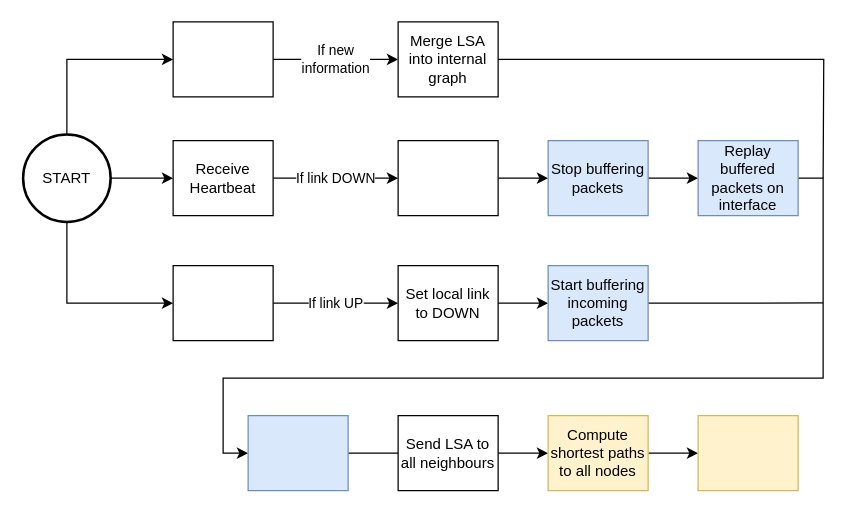
Some shapes in this 855 by 513 pixel diagram are drawn without their labels. The shapes that lost their labels are listed below. From the top down, each one's centre as x and y in pixels, then its label:
At point (222, 59): "Receive LSA".
At point (447, 177): "Set local link to UP".
At point (222, 302): "Heartbeat Timeout".
At point (297, 452): "Compute local link metrics, copy to global graph".
At point (747, 452): "Update Unix routing table".
